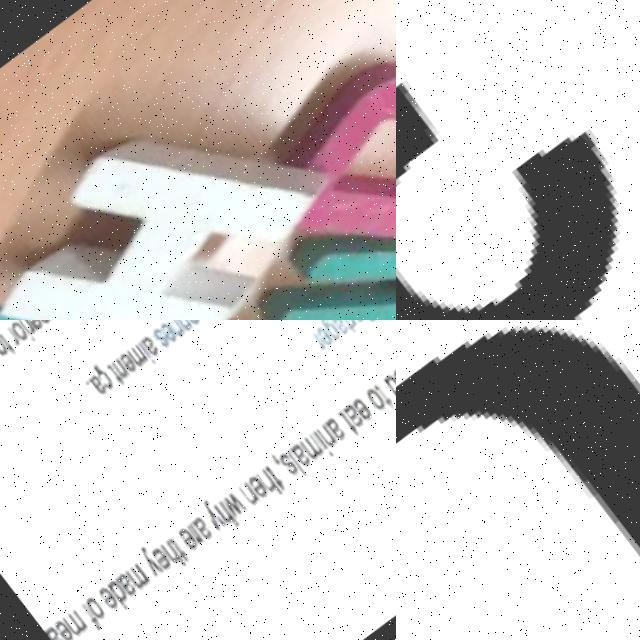3: (396, 0, 640, 320)
A: (179, 515, 207, 547), (333, 406, 359, 435), (280, 446, 306, 475), (105, 574, 130, 602), (316, 420, 341, 447), (132, 334, 156, 362), (80, 375, 103, 400), (322, 320, 345, 343), (32, 624, 57, 640), (339, 320, 362, 331)
D: (94, 577, 125, 613), (374, 376, 396, 409)
E: (166, 528, 192, 557), (139, 547, 165, 576), (238, 477, 263, 505), (85, 586, 110, 614), (343, 399, 366, 426), (110, 351, 133, 378), (151, 322, 174, 347), (40, 618, 65, 640), (308, 329, 330, 353), (384, 371, 396, 399), (16, 320, 40, 334)
F: (67, 602, 94, 636)
G: (311, 320, 338, 348)
H: (0, 55, 372, 320), (248, 471, 275, 504), (203, 502, 230, 534), (151, 543, 177, 575)
I: (302, 432, 325, 462), (10, 320, 30, 345), (131, 342, 149, 368)
L: (0, 229, 260, 320), (277, 451, 301, 481)
M: (176, 178, 396, 320), (290, 435, 321, 469), (48, 607, 79, 640), (114, 563, 144, 596), (119, 346, 144, 371)
N: (227, 483, 253, 512), (308, 427, 333, 455), (104, 359, 124, 380), (161, 320, 180, 341), (170, 320, 189, 336)
O: (210, 0, 396, 316), (72, 595, 98, 624), (356, 390, 381, 418), (2, 320, 24, 344), (174, 320, 196, 330)
P: (348, 320, 375, 330), (22, 320, 48, 328)
R: (175, 525, 195, 549), (305, 336, 322, 357), (0, 325, 16, 346), (13, 320, 32, 336), (336, 320, 354, 334)
S: (268, 454, 293, 482), (143, 326, 167, 354), (390, 363, 396, 394)
T: (366, 386, 390, 417), (255, 467, 278, 496), (158, 537, 181, 566), (330, 413, 353, 441), (98, 362, 120, 390), (330, 320, 353, 343), (0, 331, 10, 357)
U: (396, 320, 640, 640)
W: (210, 492, 240, 524)
Y: (125, 546, 156, 583), (188, 501, 215, 533)
